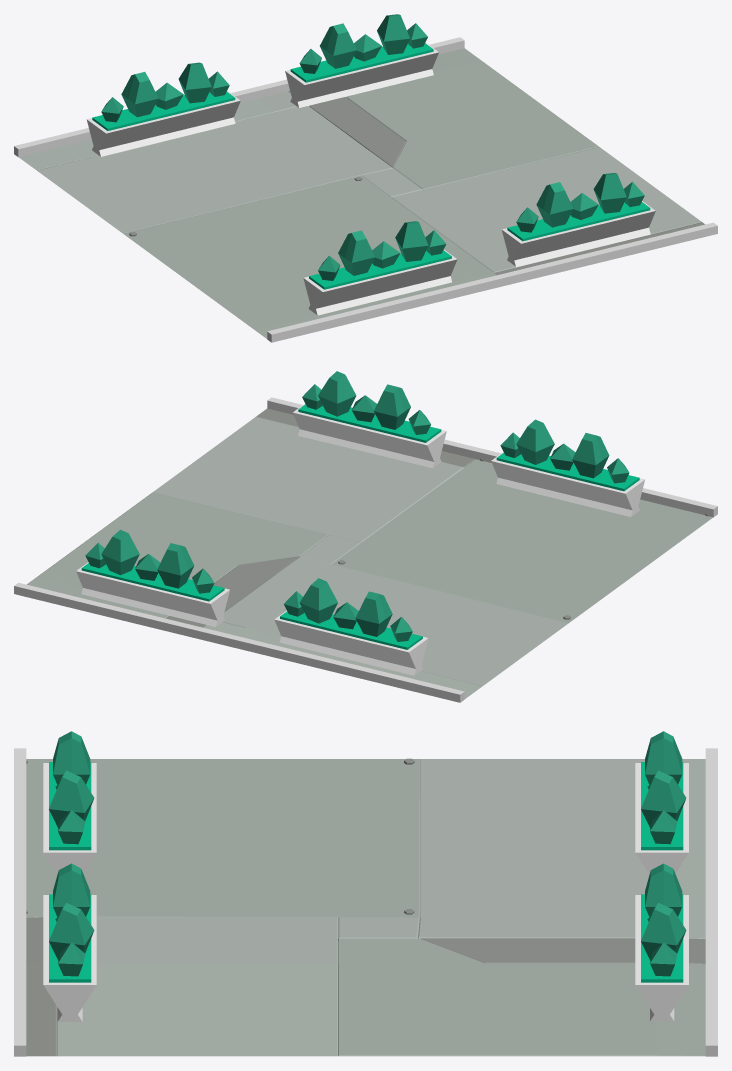
The picture shows the model from 3 angles, top to bottom: view 1: azimuth 30°, elevation 25°; view 2: azimuth 150°, elevation 25°; view 3: azimuth 270°, elevation 25°; orthographic projection. The views are drawn at different scales.
Visible parts, largest first — view 1: Scifi_Panel_04_Plaza014_group4.017_Scifi_Panel_04_Plaza014_g, base_pot.009, base_pot.011, base_pot.008, base_pot.010, Cube.920_Cube.1045, Cube.919_Cube.1044; view 2: Scifi_Panel_04_Plaza014_group4.017_Scifi_Panel_04_Plaza014_g, base_pot.011, base_pot.008, base_pot.010, base_pot.009, Cube.919_Cube.1044, Cube.920_Cube.1045; view 3: Scifi_Panel_04_Plaza014_group4.017_Scifi_Panel_04_Plaza014_g, base_pot.009, base_pot.010, base_pot.011, base_pot.008, Cube.920_Cube.1045, Cube.919_Cube.1044.
Boxes of the visible parts, <box> form: Scifi_Panel_04_Plaza014_group4.017_Scifi_Panel_04_Plaza014_g: <box>19,48,704,338</box>; base_pot.009: <box>501,173,655,267</box>; base_pot.011: <box>86,62,240,156</box>; base_pot.008: <box>303,221,457,315</box>; base_pot.010: <box>285,14,438,107</box>; Cube.920_Cube.1045: <box>267,222,717,342</box>; Cube.919_Cube.1044: <box>14,37,464,157</box>; Scifi_Panel_04_Plaza014_group4.017_Scifi_Panel_04_Plaza014_g: <box>27,408,712,698</box>; base_pot.011: <box>274,578,428,675</box>; base_pot.008: <box>491,419,645,516</box>; base_pot.010: <box>76,529,229,626</box>; base_pot.009: <box>292,371,446,468</box>; Cube.919_Cube.1044: <box>14,582,464,702</box>; Cube.920_Cube.1045: <box>267,397,717,517</box>; Scifi_Panel_04_Plaza014_group4.017_Scifi_Panel_04_Plaza014_g: <box>26,758,705,1056</box>; base_pot.009: <box>43,863,96,1021</box>; base_pot.010: <box>635,863,688,1021</box>; base_pot.011: <box>635,731,688,874</box>; base_pot.008: <box>43,731,96,874</box>; Cube.920_Cube.1045: <box>14,748,26,1056</box>; Cube.919_Cube.1044: <box>705,748,717,1056</box>.
Bounding box in the file's own units: 10 × 1.51 × 10.
